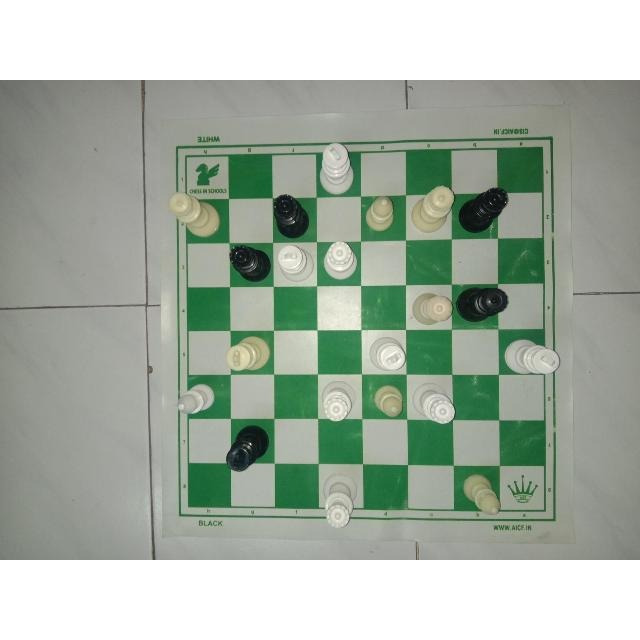black-king: (223, 422, 279, 477)
black-queen: (457, 185, 513, 232), (268, 189, 316, 240), (226, 237, 274, 286), (452, 287, 512, 325)
white-bishop: (457, 468, 509, 522), (168, 384, 218, 426), (360, 192, 400, 238), (368, 384, 410, 422)
white-king: (500, 336, 562, 380), (316, 137, 360, 195), (359, 331, 411, 378), (274, 238, 320, 286), (226, 331, 272, 378)
white-queen: (162, 188, 221, 238), (411, 183, 454, 241), (318, 474, 360, 531), (408, 290, 458, 334), (416, 381, 460, 428), (318, 381, 362, 425), (320, 239, 360, 283)
